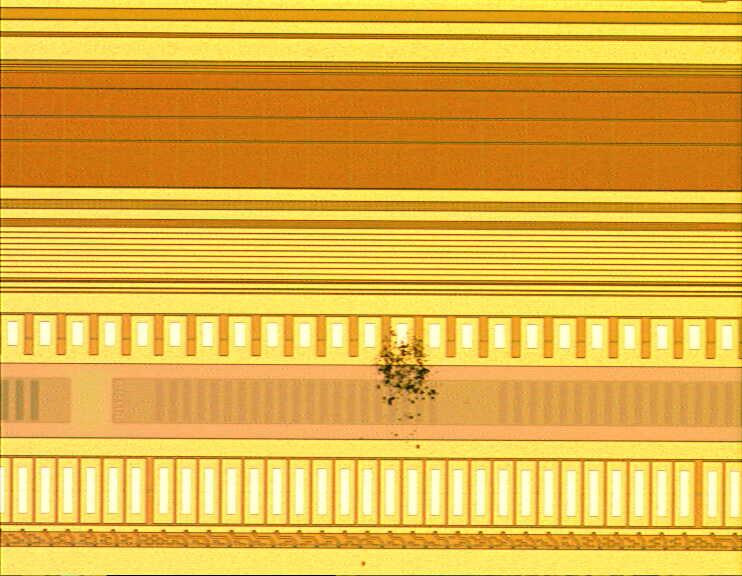PO CONTAMINATION: (355, 321, 444, 526)
